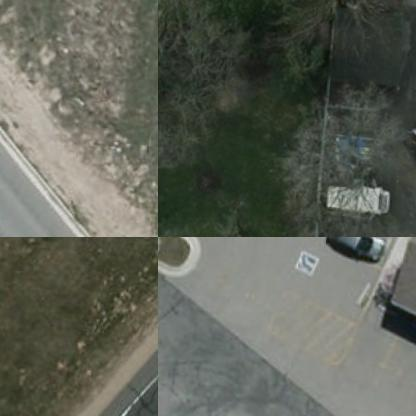car: (319, 237, 390, 263), (408, 114, 415, 173)
